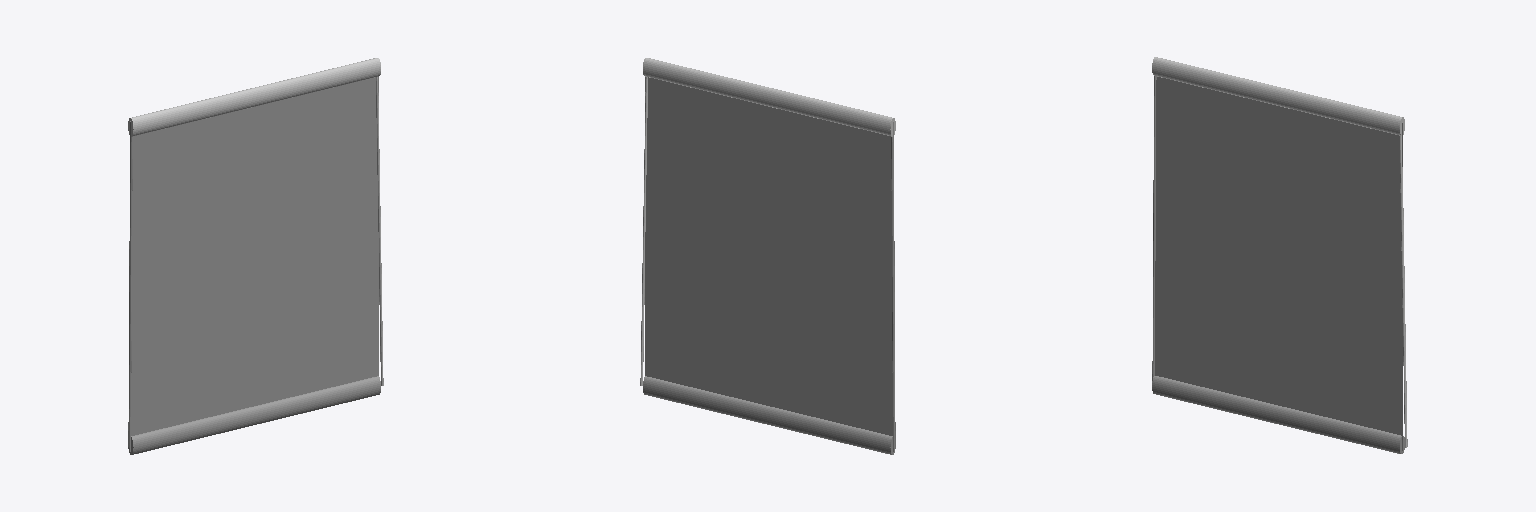
File: People.obj
The picture shows the model from 3 angles: view 1: azimuth 30°, elevation 25°; view 2: azimuth 150°, elevation 25°; view 3: azimuth 330°, elevation 25°; orthographic projection.
Parts seen in each view (by area): view 1: Plane, Cylinder.001, Cylinder, Cylinder.003, Cylinder.002; view 2: Plane, Cylinder.001, Cylinder, Cylinder.003, Cylinder.002; view 3: Plane, Cylinder.001, Cylinder, Cylinder.002, Cylinder.003.
Part boxes in pixels (bbox=[...]): Plane: bbox=[130, 77, 378, 451]; Cylinder.001: bbox=[128, 58, 380, 136]; Cylinder: bbox=[128, 376, 380, 454]; Cylinder.003: bbox=[128, 121, 132, 447]; Cylinder.002: bbox=[376, 77, 383, 385]; Plane: bbox=[645, 77, 893, 451]; Cylinder.001: bbox=[643, 58, 895, 136]; Cylinder: bbox=[643, 376, 895, 454]; Cylinder.003: bbox=[891, 121, 895, 447]; Cylinder.002: bbox=[640, 77, 647, 385]; Plane: bbox=[1155, 77, 1402, 450]; Cylinder.001: bbox=[1152, 57, 1404, 135]; Cylinder: bbox=[1152, 376, 1404, 453]; Cylinder.002: bbox=[1400, 136, 1407, 447]; Cylinder.003: bbox=[1152, 76, 1156, 380].
Bounding box in the file's own units: 6.9 × 8.73 × 0.255.